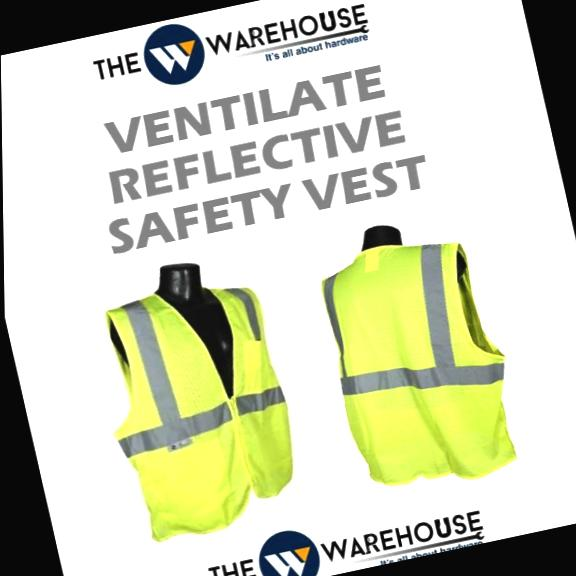safety_vest: (83, 270, 310, 546), (310, 222, 529, 504)
